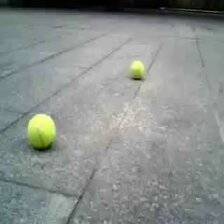tennis: (27, 113, 54, 146), (130, 60, 145, 78)
